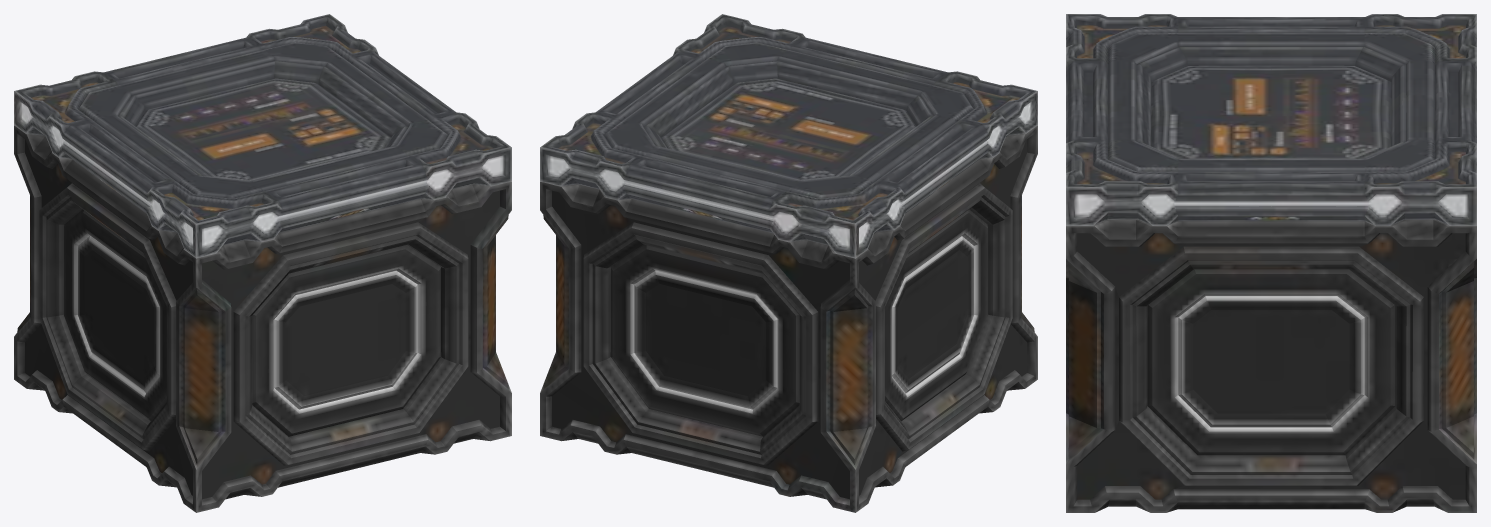
Rendered from crate.glb.
3 renders of one model, left to right at view 1: azimuth 30°, elevation 25°; view 2: azimuth 150°, elevation 25°; view 3: azimuth 270°, elevation 25°, orthographic. The views are drawn at different scales.
Parts seen in each view (by area): view 1: StorageBoxCore_low, StorageBoxTop_low; view 2: StorageBoxCore_low, StorageBoxTop_low; view 3: StorageBoxCore_low, StorageBoxTop_low.
Part boxes in pixels (x1,y1,x2,y2): StorageBoxCore_low: (14,125,511,512); StorageBoxTop_low: (14,14,511,258); StorageBoxCore_low: (540,125,1037,512); StorageBoxTop_low: (540,14,1037,258); StorageBoxCore_low: (1066,219,1476,512); StorageBoxTop_low: (1066,14,1476,225).
Bounding box in the file's own units: 0.7979 × 0.6974 × 0.7979.
2 materials, 2 textured.
